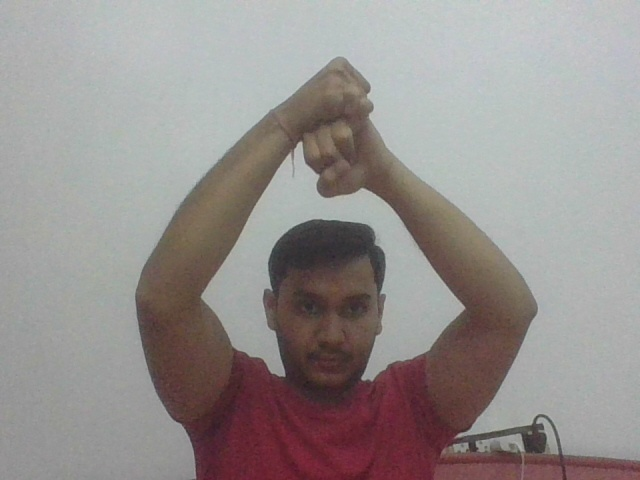S: (297, 49, 379, 199)
